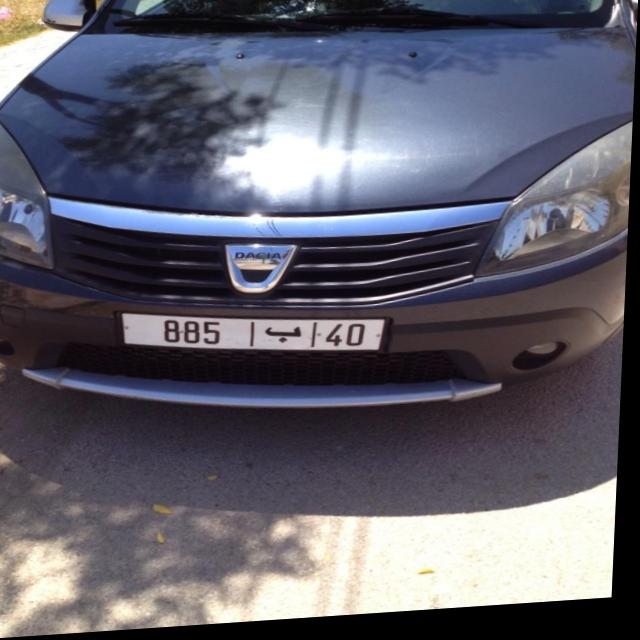License-Plate: (125, 316, 389, 356)
